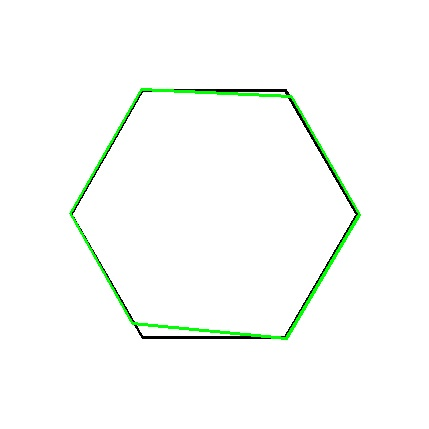line_segment: (70, 88, 360, 340)
